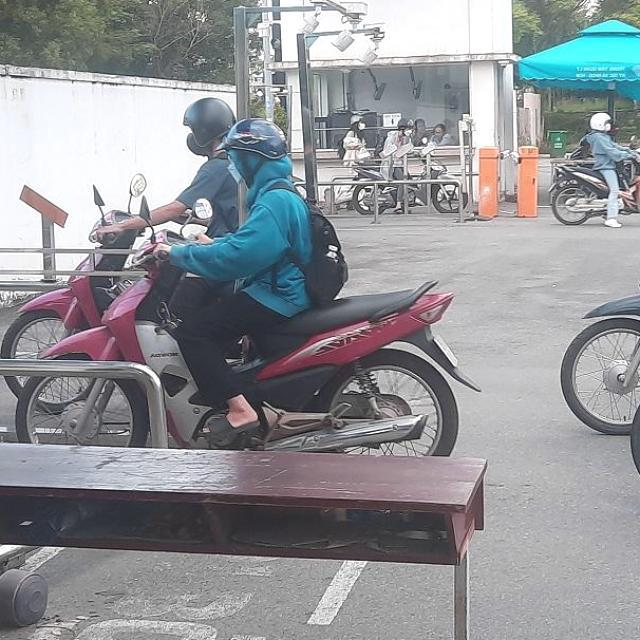Helmet: (223, 114, 290, 174), (180, 96, 232, 158)
